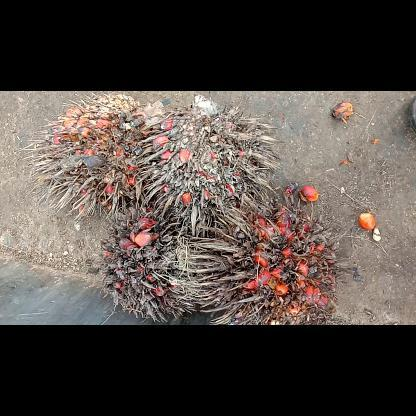Terlalu masak: (127, 90, 288, 233), (192, 180, 348, 324), (14, 90, 178, 222), (96, 195, 226, 323)
